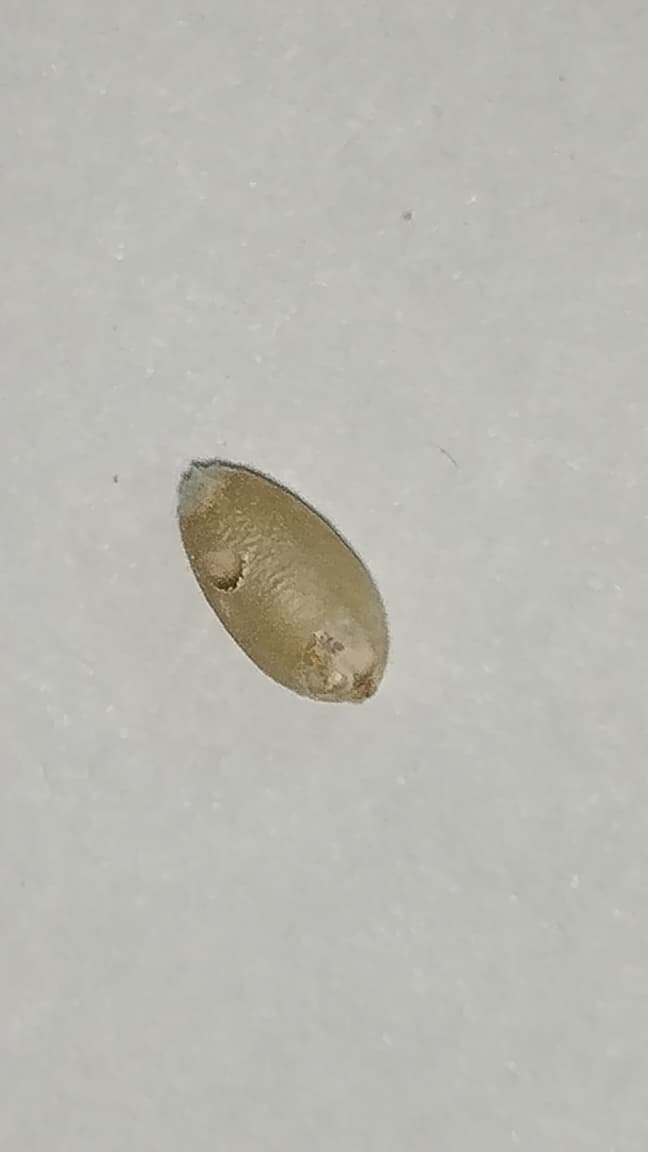damage: (177, 456, 390, 703)
insectdamage: (285, 601, 393, 705), (199, 517, 257, 618)
